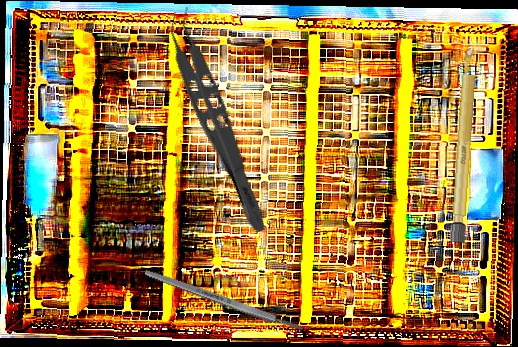Scalpel Handle: (143, 267, 305, 334), (449, 47, 480, 243)
Tissue Forceps: (153, 4, 288, 237)
